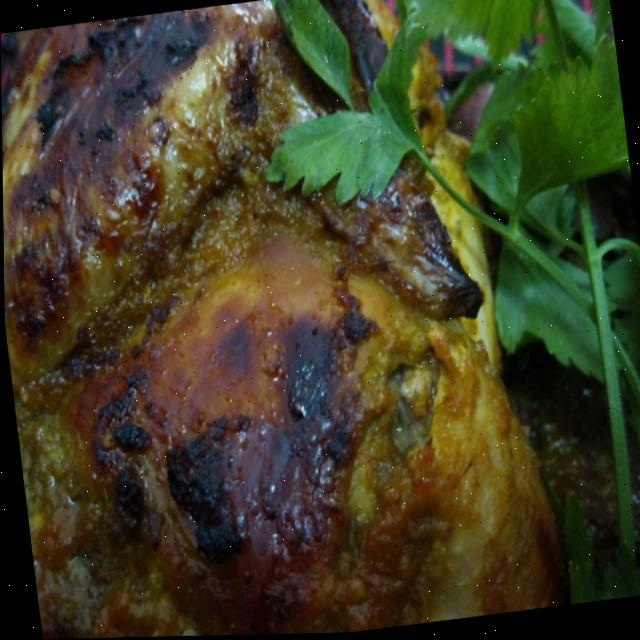鸡肉料理 含炸鸡: (7, 0, 572, 635)
